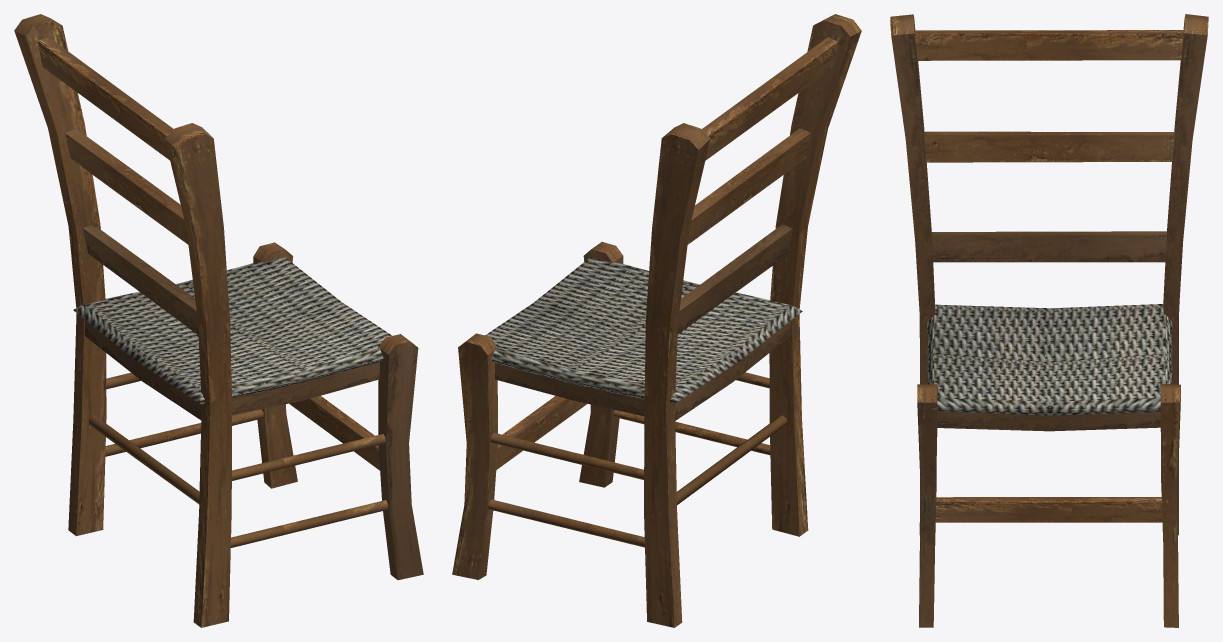
File: Wooden-Chair.glb
The picture shows the model from 3 angles, left to right: view 1: azimuth 30°, elevation 25°; view 2: azimuth 150°, elevation 25°; view 3: azimuth 270°, elevation 25°; orthographic projection. The views are drawn at different scales.
Visible parts, largest first — view 1: chair_wood_a_whole.3; view 2: chair_wood_a_whole.3; view 3: chair_wood_a_whole.3.
Boxes of the visible parts, box(x1,y1,x2,y2) form: chair_wood_a_whole.3: box(14, 14, 423, 627); chair_wood_a_whole.3: box(452, 14, 861, 627); chair_wood_a_whole.3: box(890, 14, 1208, 627).
Bounding box in the file's own units: 0.00493 × 0.0092 × 0.00536.
1 material, 1 textured.
